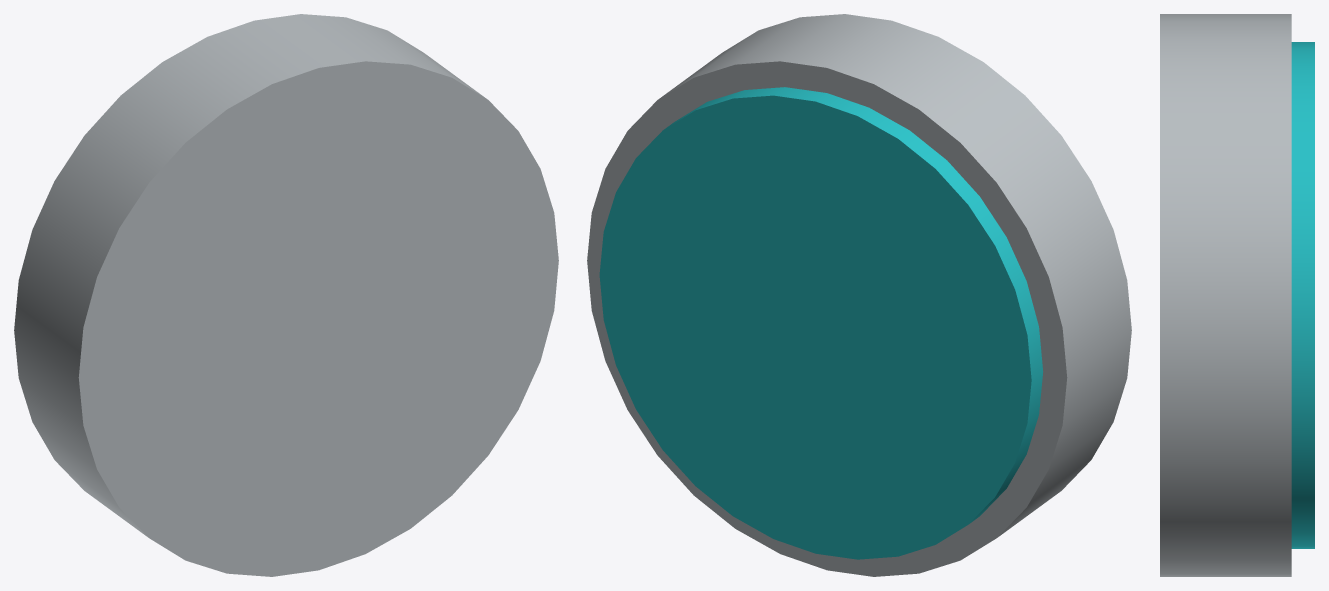
File: right_flange.obj
3 views of the same model, side by side, from view 1: azimuth 30°, elevation 25°; view 2: azimuth 150°, elevation 25°; view 3: azimuth 270°, elevation 25° (orthographic).
Visible parts, largest first — view 1: right_metal_wrist_flange; view 2: right_cyan_wrist_status, right_metal_wrist_flange; view 3: right_metal_wrist_flange, right_cyan_wrist_status.
Part boxes in pixels (<box>): right_metal_wrist_flange: <box>14,14,558,576</box>; right_cyan_wrist_status: <box>599,87,1043,559</box>; right_metal_wrist_flange: <box>587,14,1131,576</box>; right_metal_wrist_flange: <box>1160,14,1291,576</box>; right_cyan_wrist_status: <box>1291,42,1314,548</box>.
Bounding box in the file's own units: 0.06 × 0.06 × 0.0165.
